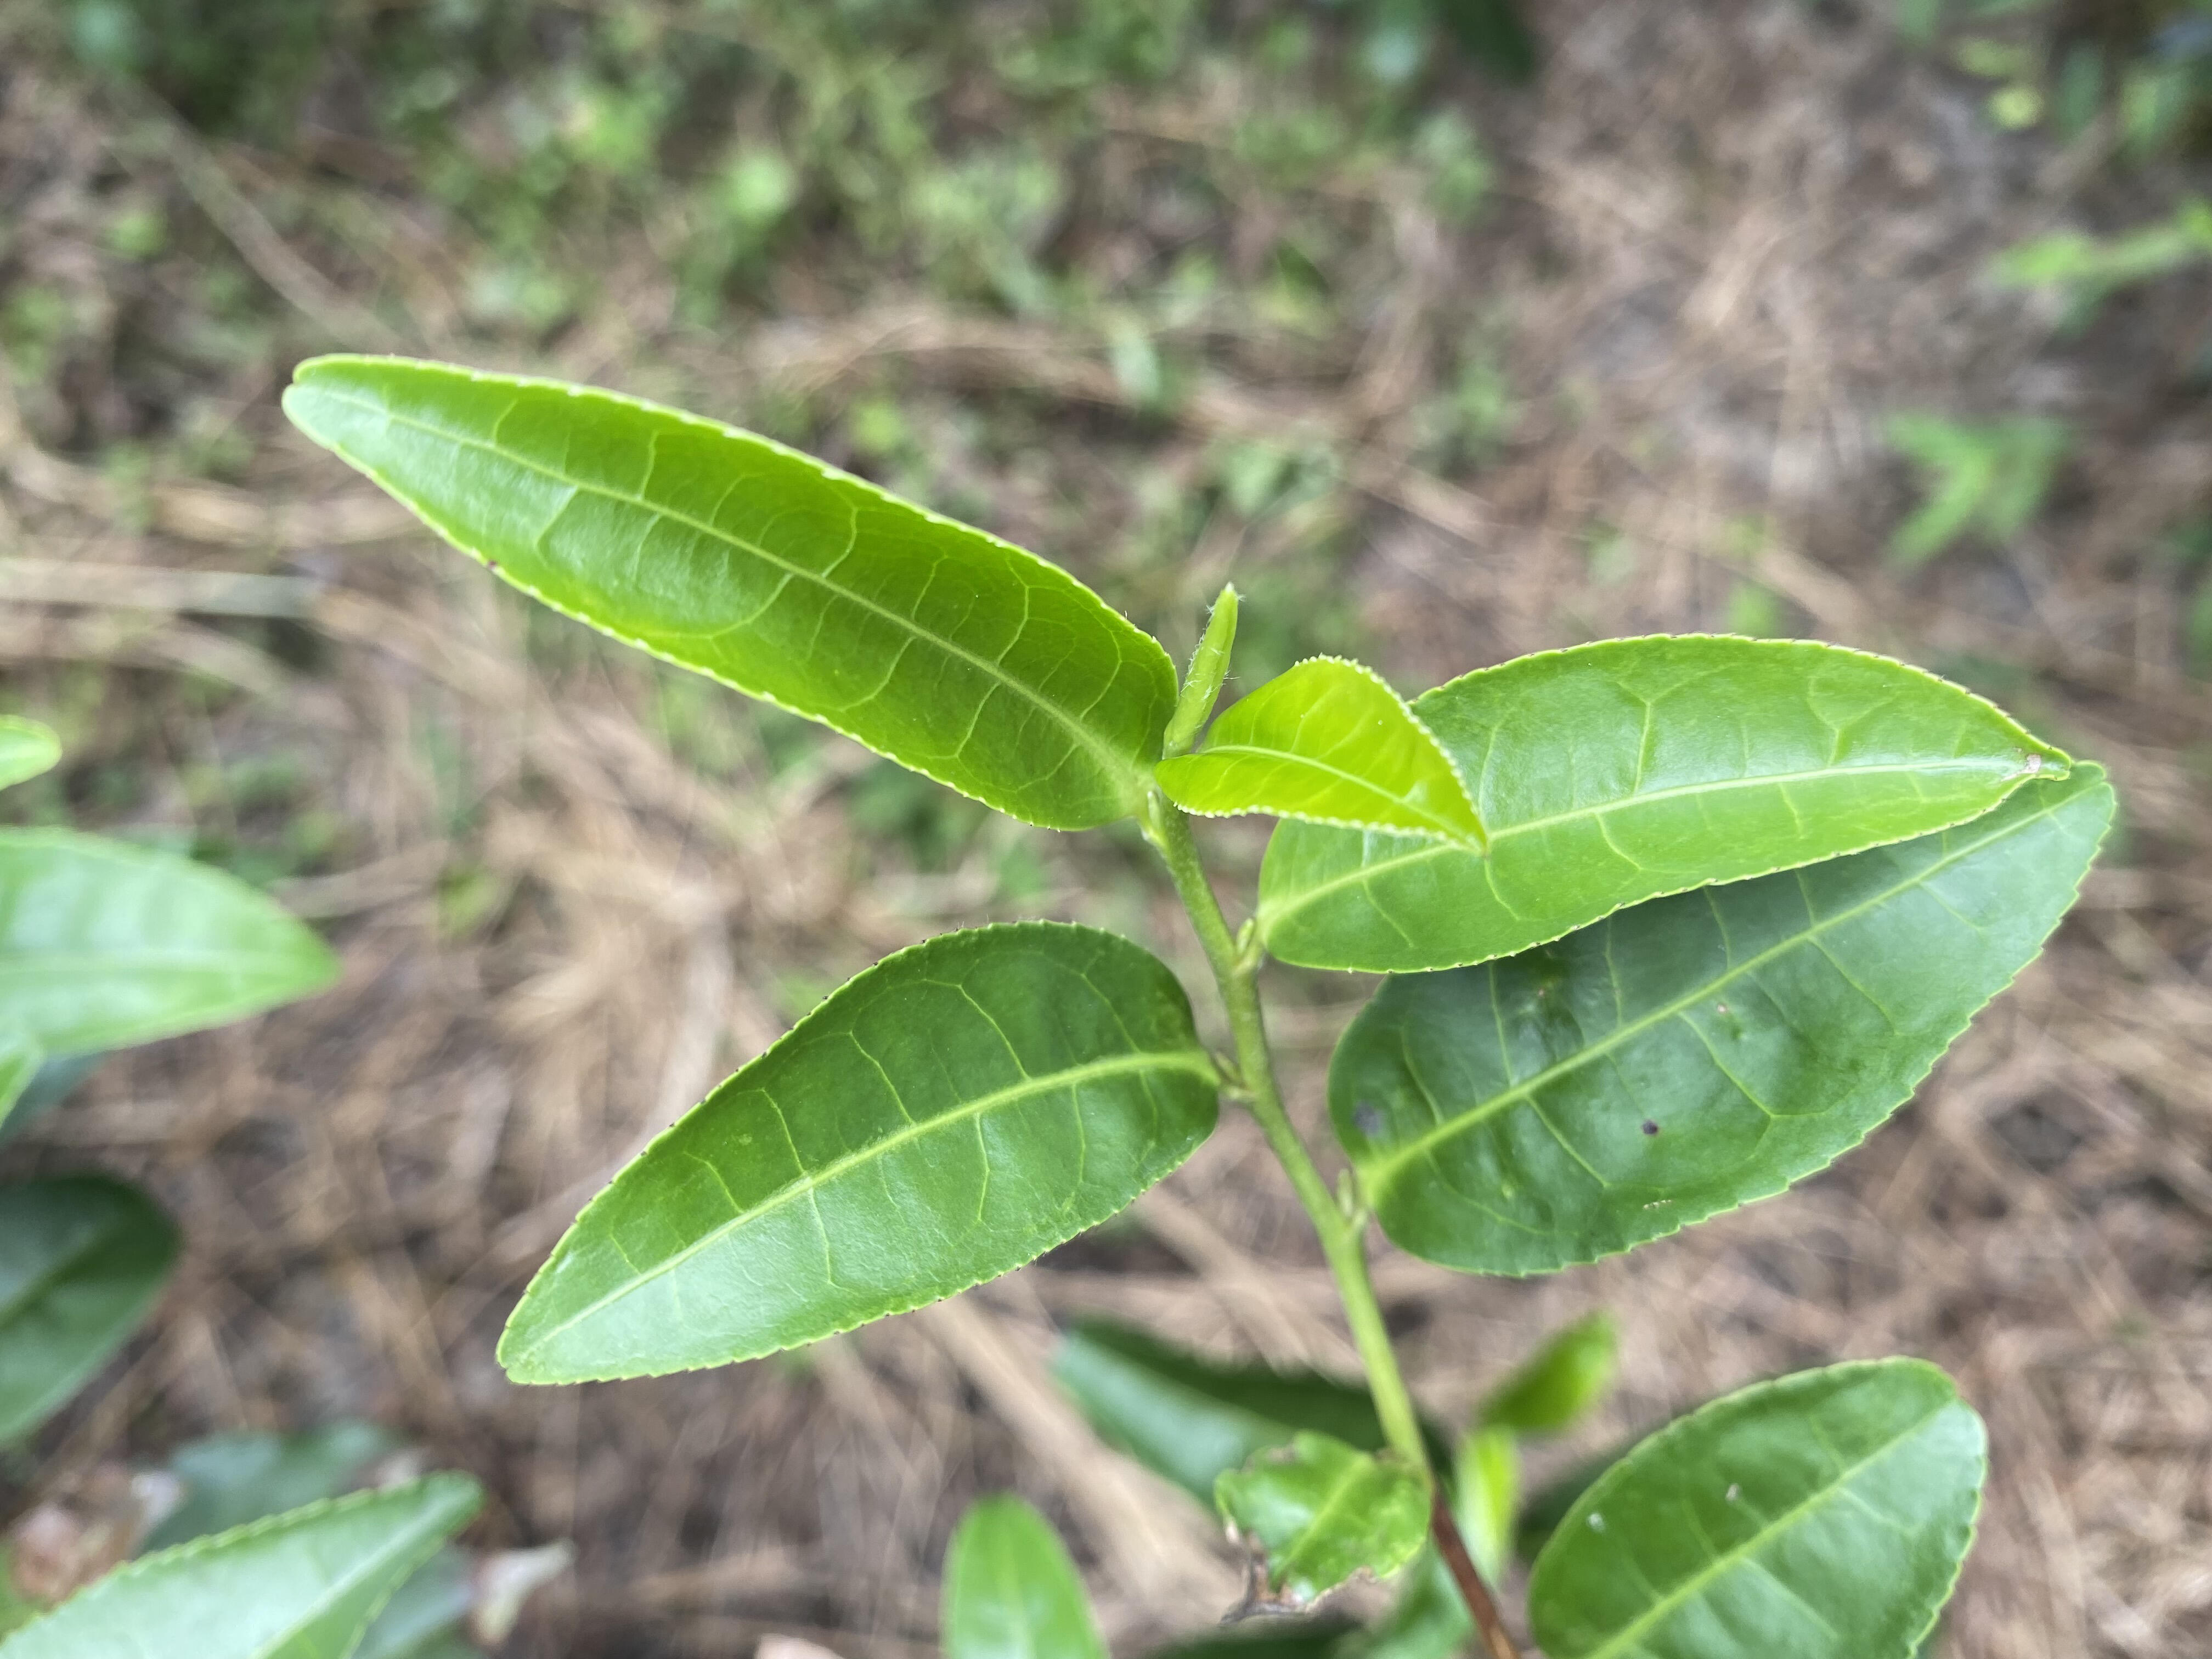healthy: (275, 350, 1177, 835), (493, 918, 1221, 1387), (1155, 653, 1489, 857)
tanju_high: (1212, 1425, 1432, 1628)
tanju_low: (1259, 627, 2073, 972)
